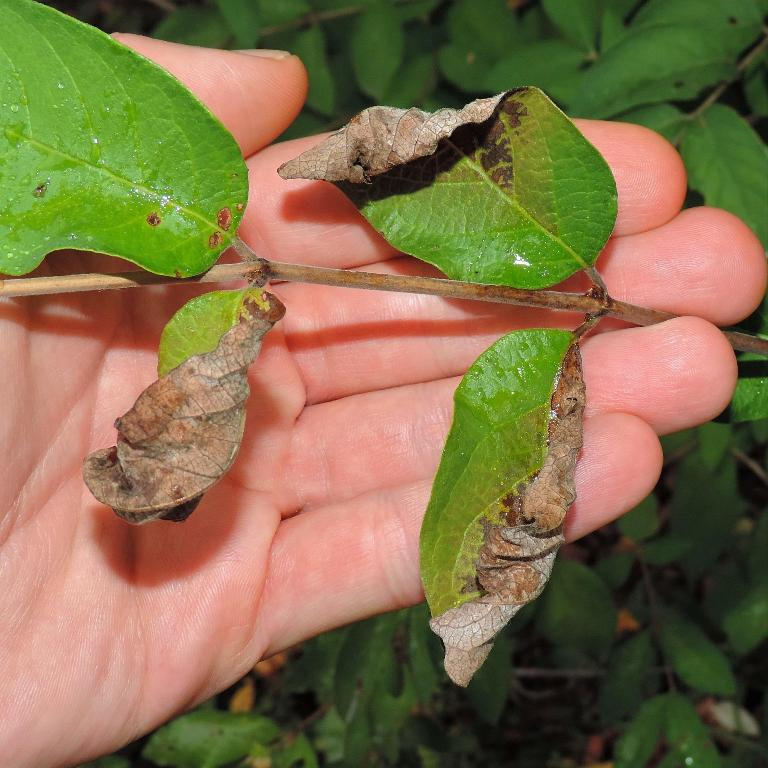blight: (478, 338, 576, 620), (106, 334, 238, 488)
